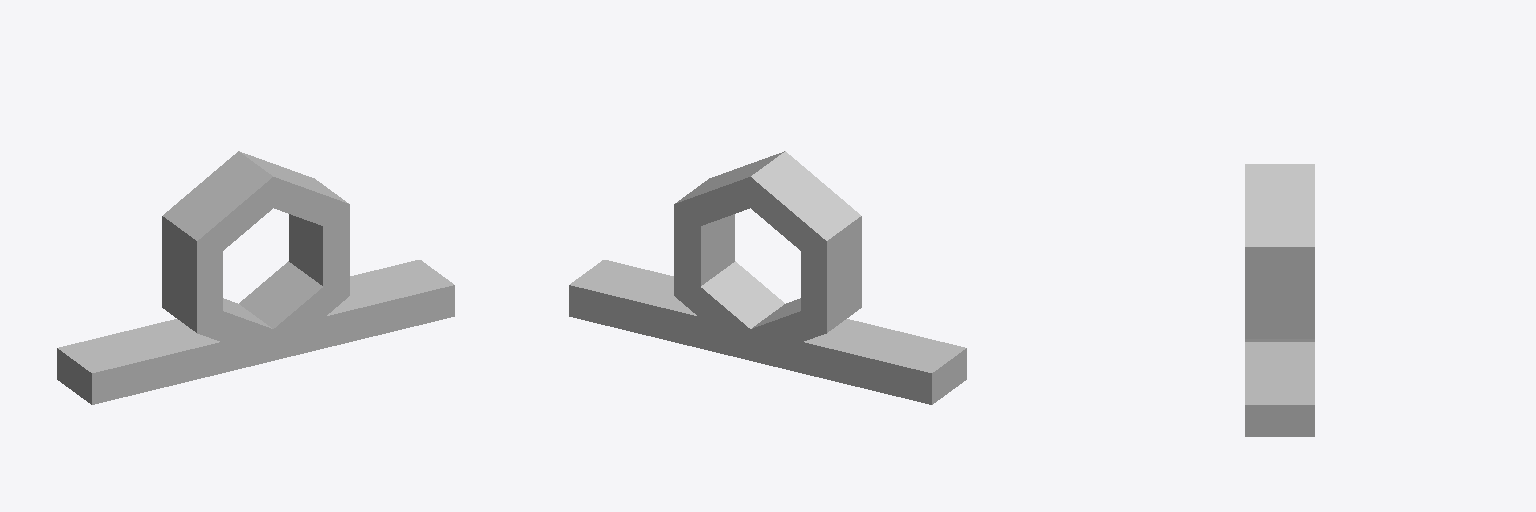
File: example_02.obj
The picture shows the model from 3 angles: view 1: azimuth 30°, elevation 25°; view 2: azimuth 150°, elevation 25°; view 3: azimuth 270°, elevation 25°; orthographic projection.
Visible parts, largest first — view 1: bend, flat; view 2: bend, flat; view 3: bend, flat.
Part boxes in pixels (x1,y1,x2,y2): bend: (162,151,349,359); flat: (57,260,454,404); bend: (674,151,861,359); flat: (569,260,966,404); bend: (1245,164,1314,341); flat: (1245,342,1314,436).
Size of the model in its own units: 6 by 2.91 by 1.